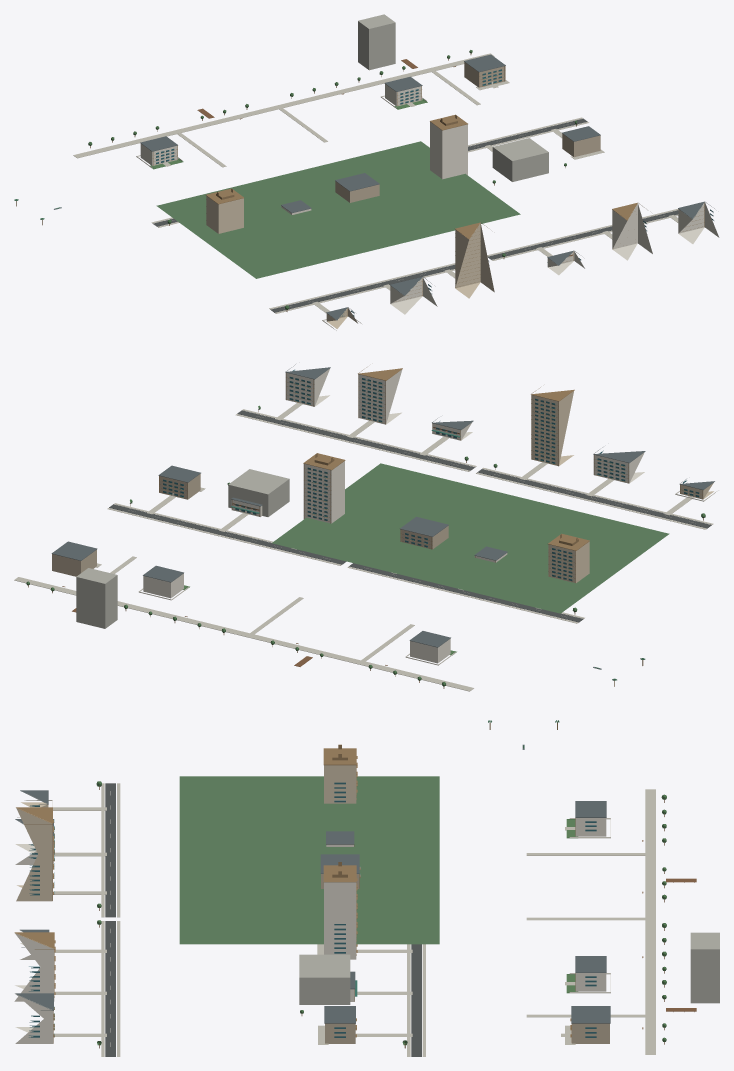
Rendered from cell_4_-3_full.gltf.
3 views of the same model, one above another, from view 1: azimuth 30°, elevation 25°; view 2: azimuth 150°, elevation 25°; view 3: azimuth 270°, elevation 25° (orthographic). The views are drawn at different scales.
Parts seen in each view (by area): view 1: GIDI_IKOYI_WATERFRONT_DISTRICT_V2_MESH, OPENSPACE_2230, MASS_LEKKI_006; view 2: GIDI_IKOYI_WATERFRONT_DISTRICT_V2_MESH, OPENSPACE_2230, MASS_LEKKI_006; view 3: OPENSPACE_2230, GIDI_IKOYI_WATERFRONT_DISTRICT_V2_MESH, MASS_LEKKI_006.
Part boxes in pixels (x1,y1,x2,y2): GIDI_IKOYI_WATERFRONT_DISTRICT_V2_MESH: (73, 50, 719, 330); OPENSPACE_2230: (156, 141, 520, 278); MASS_LEKKI_006: (358, 14, 548, 181); GIDI_IKOYI_WATERFRONT_DISTRICT_V2_MESH: (14, 364, 718, 691); OPENSPACE_2230: (272, 463, 669, 613); MASS_LEKKI_006: (76, 469, 289, 628); OPENSPACE_2230: (179, 776, 439, 944); GIDI_IKOYI_WATERFRONT_DISTRICT_V2_MESH: (14, 744, 696, 1056); MASS_LEKKI_006: (299, 932, 719, 1004).
Bounding box in the file's own units: 508 × 62 × 462.
